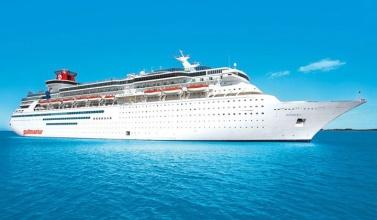youlun: (5, 59, 370, 147)
